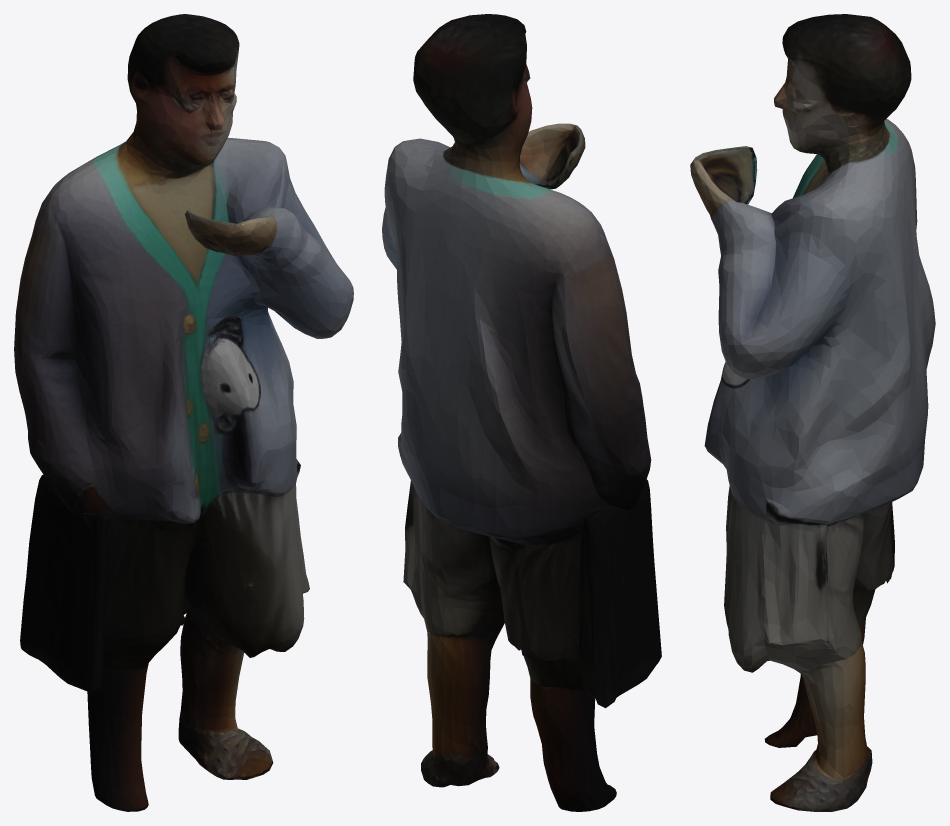
File: sample.glb
The picture shows the model from 3 angles, left to right: view 1: azimuth 30°, elevation 25°; view 2: azimuth 150°, elevation 25°; view 3: azimuth 270°, elevation 25°; orthographic projection. The views are drawn at different scales.
Visible parts, largest first — view 1: world; view 2: world; view 3: world.
Part boxes in pixels (box(x1,y1,x2,y2)): world: box(14, 14, 353, 811); world: box(382, 14, 661, 811); world: box(690, 14, 935, 811).
Bounding box in the file's own units: 0.3924 × 1 × 0.2921.
Materials: 1 (1 with a texture image).
